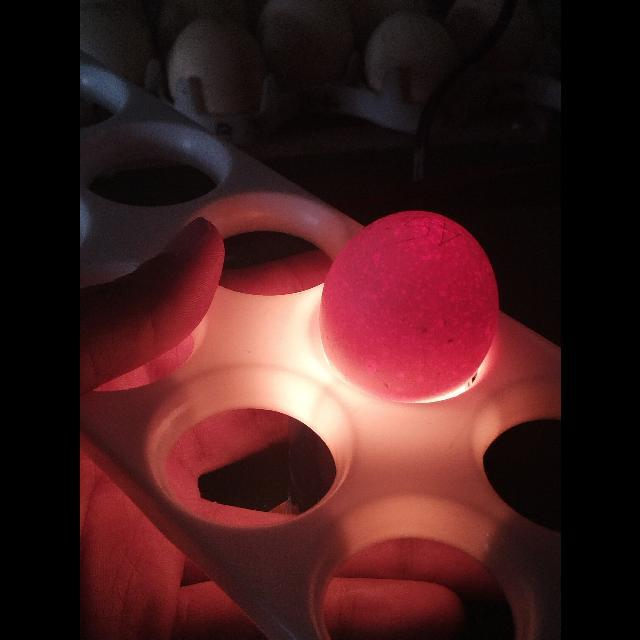Fertile: (322, 210, 504, 394)
